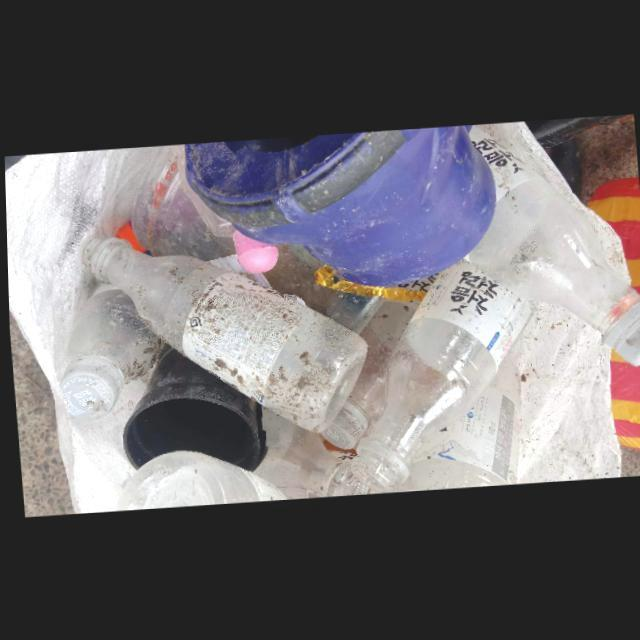plastic_bottle: (79, 236, 366, 433), (348, 260, 535, 494), (467, 127, 640, 368), (318, 302, 413, 451), (58, 286, 160, 420)
